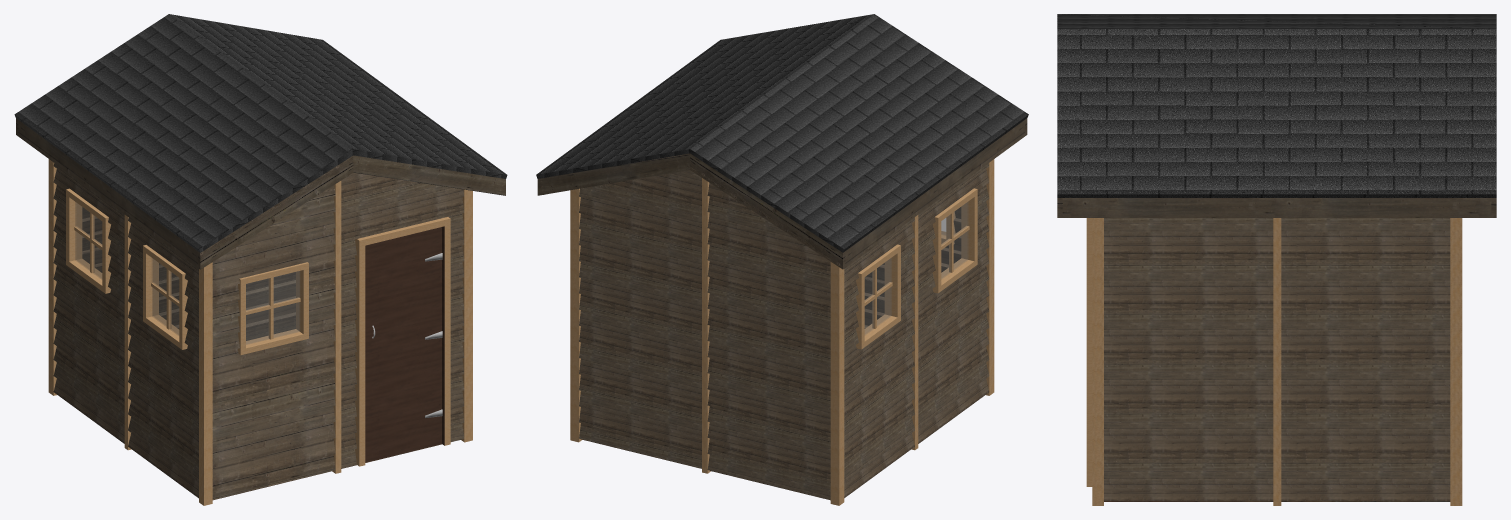
File: shed.glb
3 views of the same model, side by side, from view 1: azimuth 30°, elevation 25°; view 2: azimuth 150°, elevation 25°; view 3: azimuth 270°, elevation 25° (orthographic). The views are drawn at different scales.
Size of the model in its own units: 2.89 by 3 by 3.
Materials: 8 (7 with a texture image).
